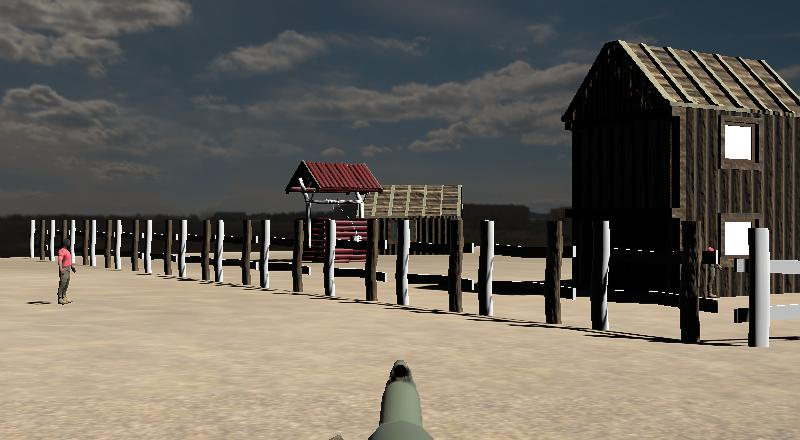House: (562, 41, 799, 300)
Human: (55, 239, 77, 307)
